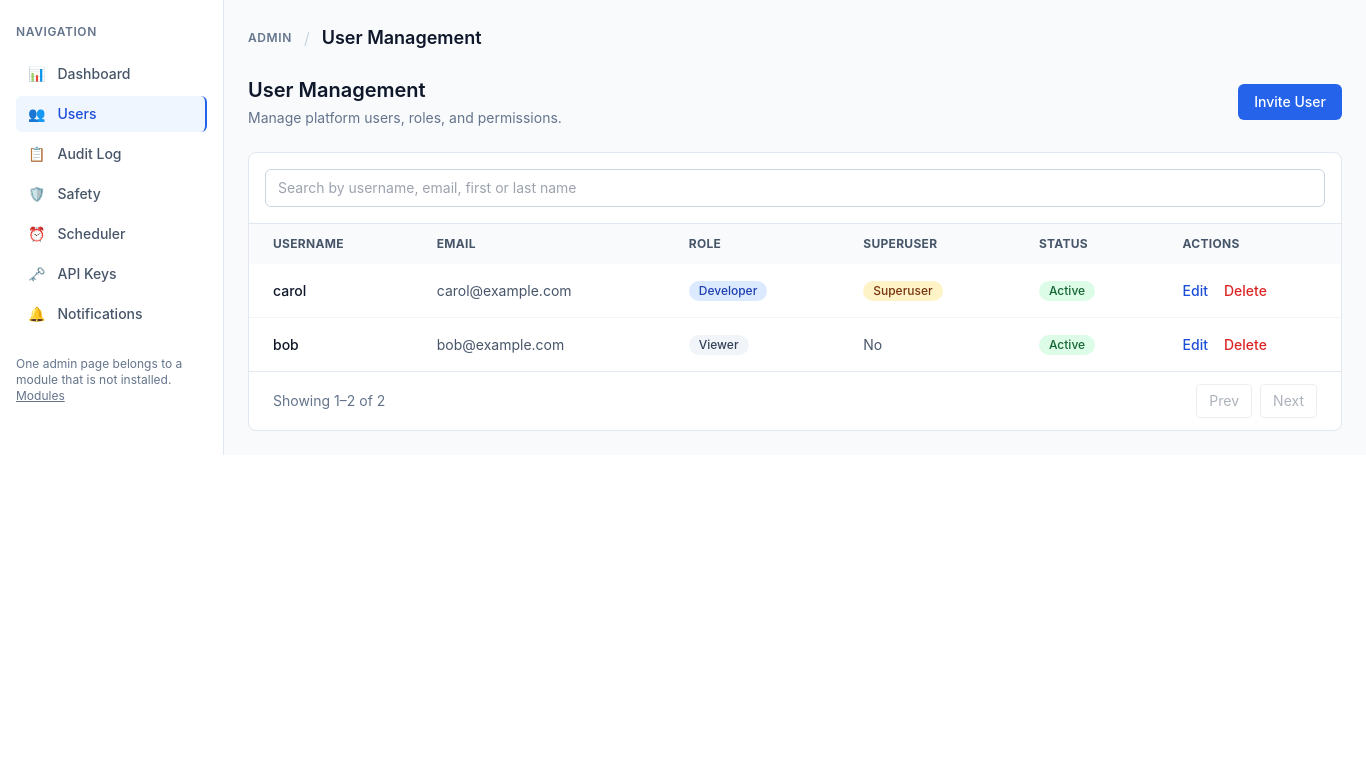
Test: /admin/users editing a user › 400 shows the API sentence, inside the dialog, which stays open with the choice kept
The width and height of the screenshot is (1366, 768).
Check: the element with test id "user-management-page" is shown, box 248,76 -> 1342,431
Click the button with test id "edit-user-u-2". click: (1195, 344)
box: 1182,334 -> 1208,354
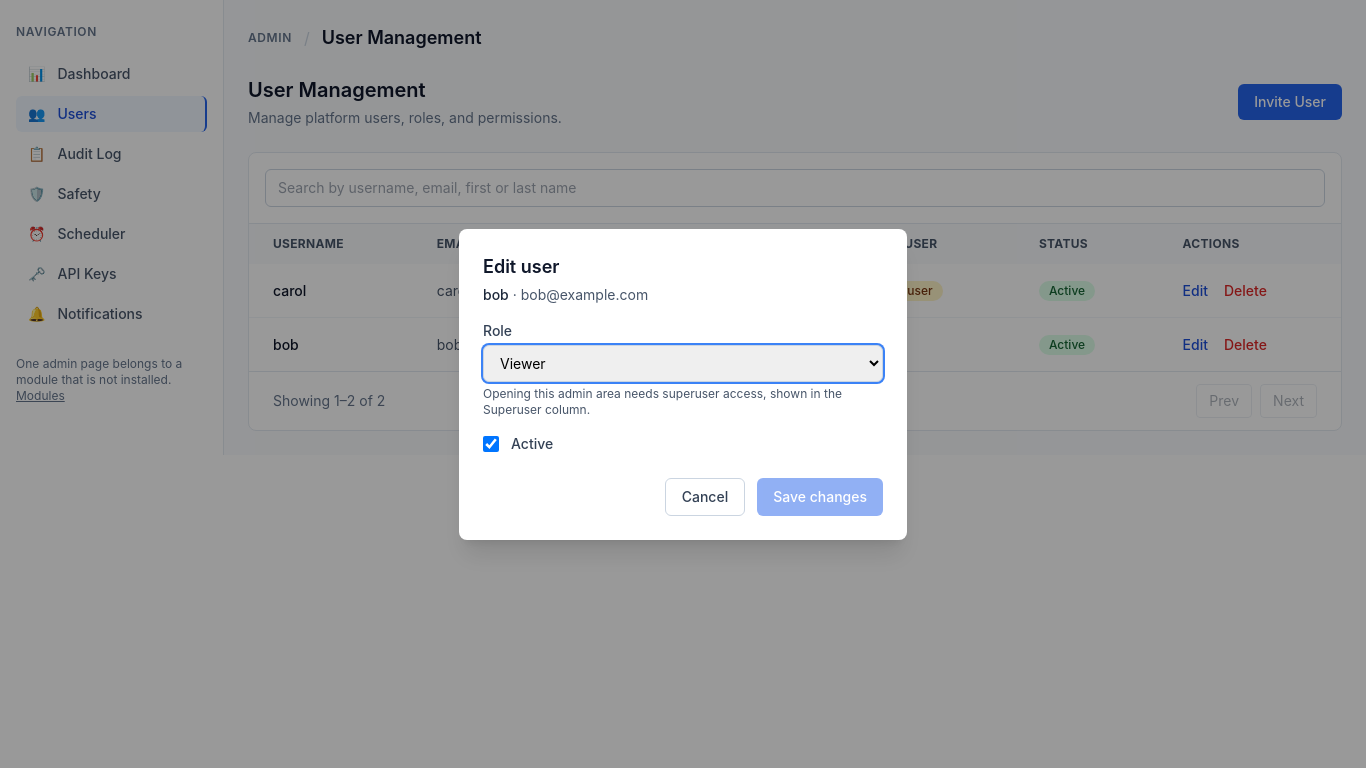
Select "Analyst" in the dropdown with test id "edit-role-select". click: (683, 363)
box: 483,344 -> 883,382
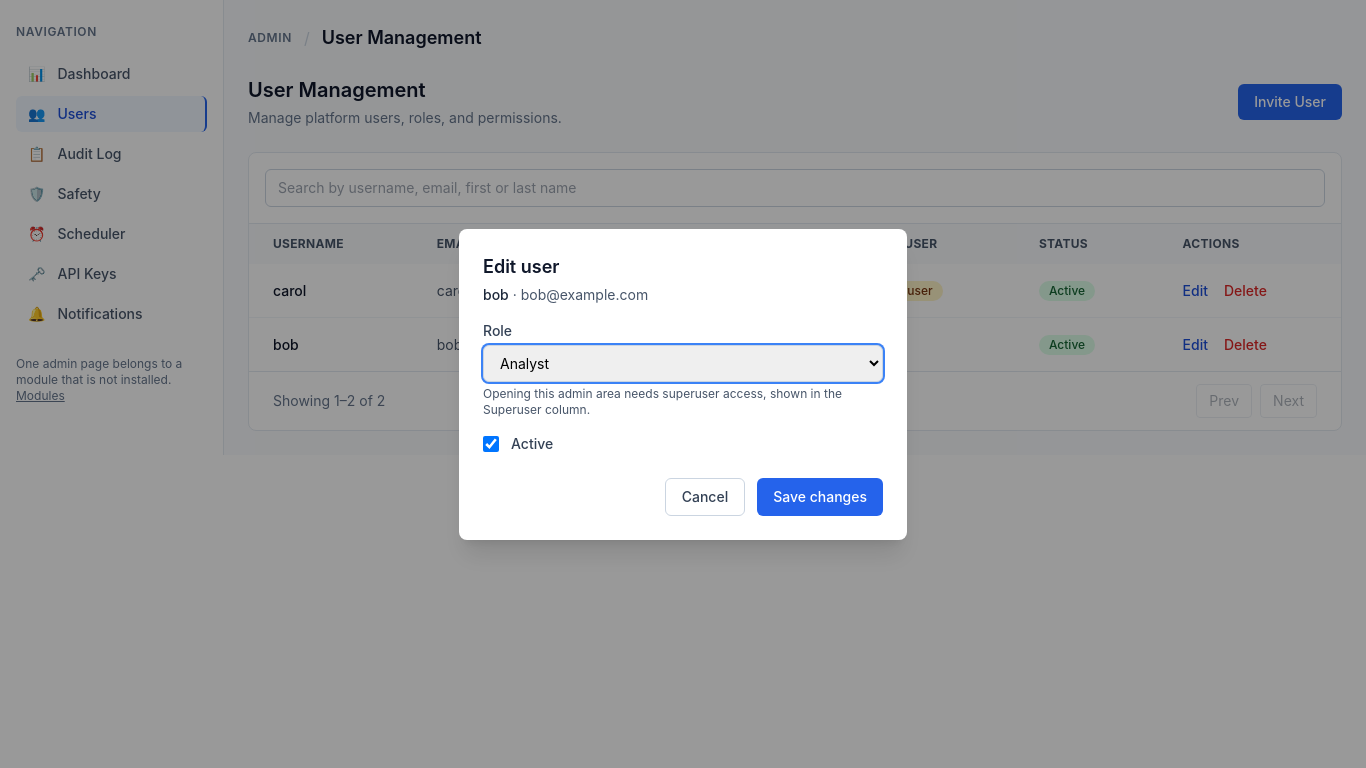
Click the button with test id "edit-save-button". click: (820, 496)
box: 757,478 -> 883,516
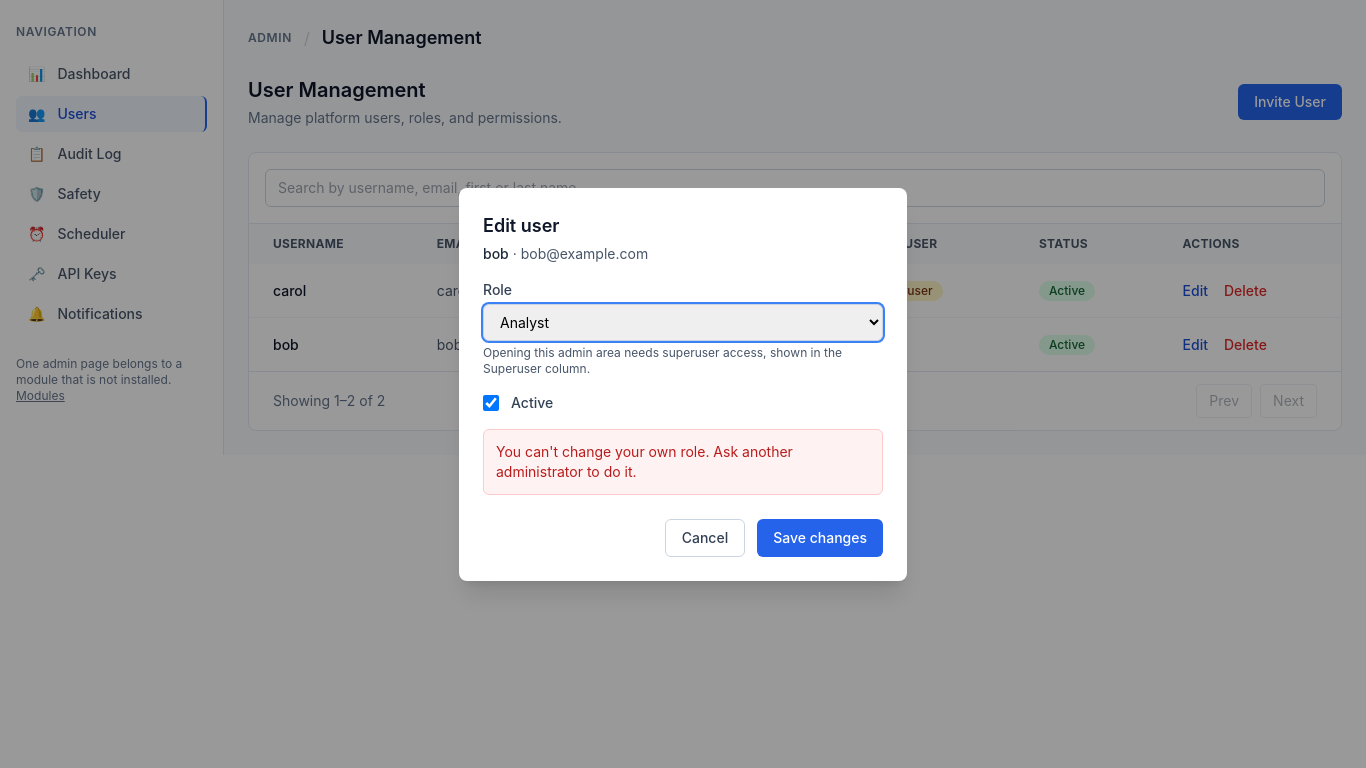
Check: the dialog with test id "edit-user-modal" is shown
Check: the message with test id "edit-error-message" reads "You can't change your own role. Ask another administrator to do it.", box 496,442 -> 793,480
